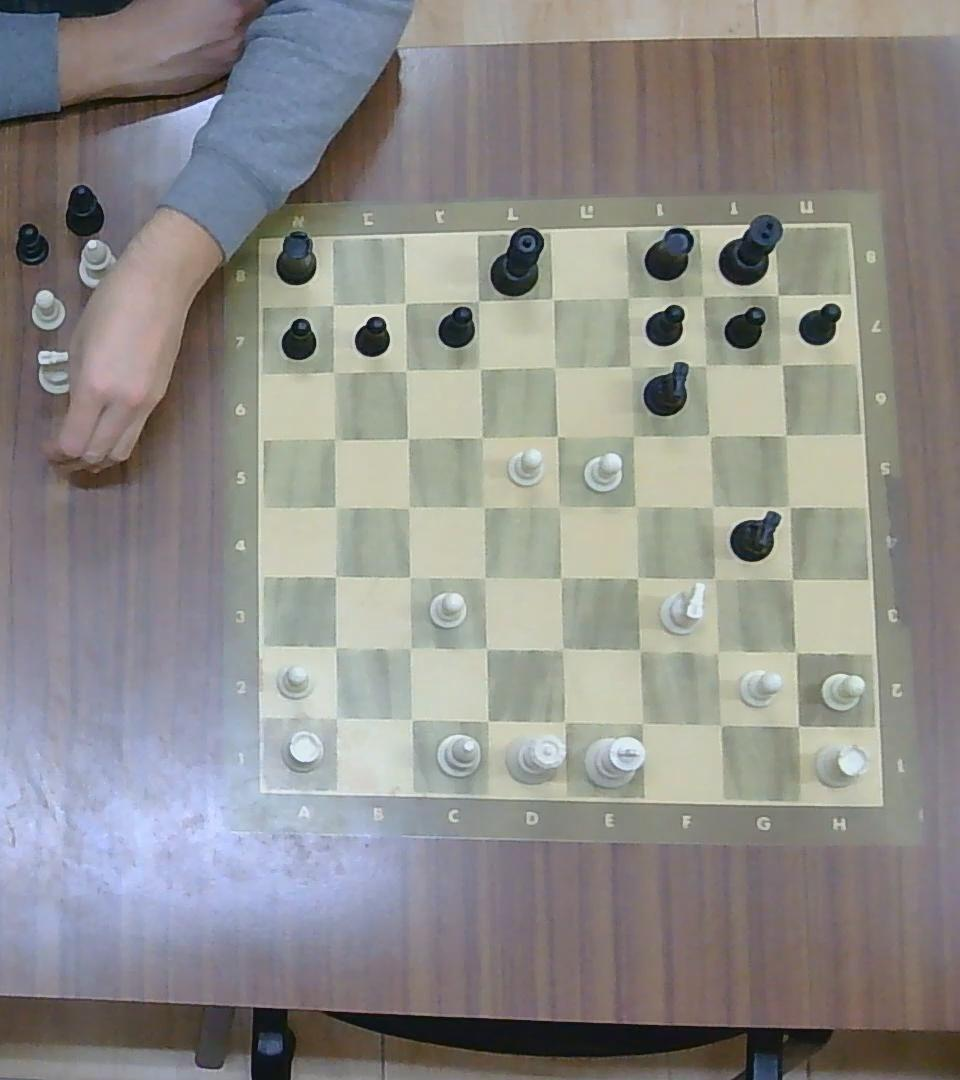xcorner: (702, 707, 737, 740), (624, 706, 658, 738), (701, 635, 734, 667), (546, 633, 579, 665), (781, 709, 813, 741), (548, 705, 579, 738), (624, 633, 655, 665), (394, 702, 425, 734), (470, 704, 501, 736), (320, 701, 351, 733), (470, 632, 501, 663), (776, 563, 807, 594), (621, 561, 651, 592), (394, 632, 424, 663), (545, 561, 575, 592), (469, 563, 500, 593), (780, 636, 811, 666), (320, 631, 350, 661), (394, 561, 423, 592), (699, 563, 728, 594), (622, 491, 651, 520), (616, 351, 645, 380), (320, 561, 350, 589), (618, 421, 648, 449), (545, 491, 573, 520), (470, 491, 498, 520), (466, 421, 495, 449), (320, 422, 348, 451), (543, 421, 571, 449), (318, 291, 346, 319), (394, 492, 423, 519), (698, 492, 727, 519), (321, 492, 350, 519), (695, 420, 723, 447), (774, 492, 802, 519), (538, 285, 566, 312), (540, 352, 568, 379), (393, 423, 420, 450), (320, 357, 347, 384), (615, 283, 641, 310), (465, 355, 493, 380), (392, 356, 418, 382), (693, 351, 719, 377), (768, 350, 794, 375), (465, 288, 491, 312), (773, 421, 798, 445), (391, 290, 416, 313), (691, 283, 714, 307), (767, 283, 789, 306)
